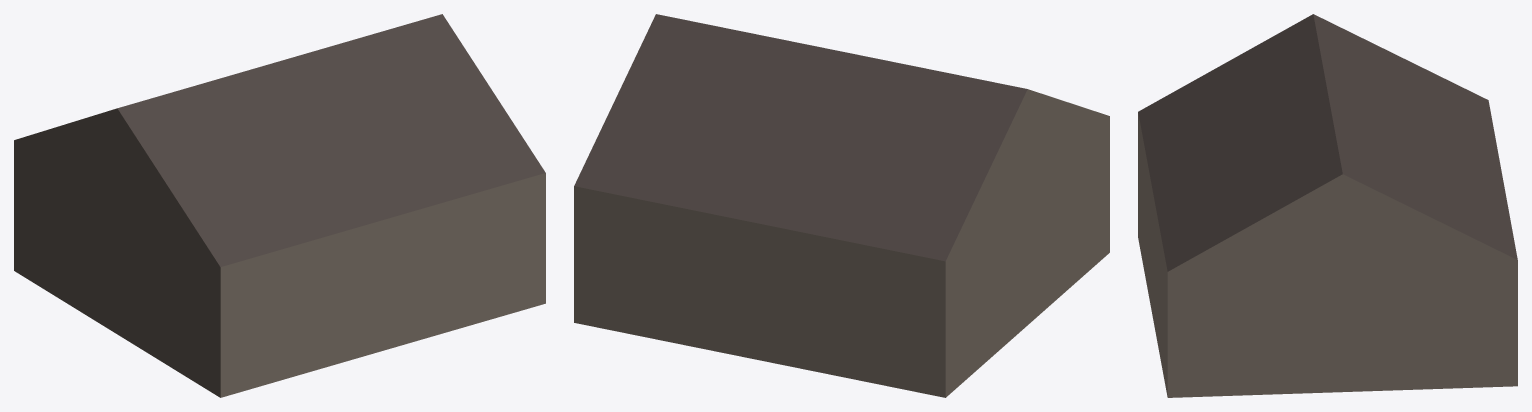
The picture shows the model from 3 angles, left to right: view 1: azimuth 30°, elevation 25°; view 2: azimuth 150°, elevation 25°; view 3: azimuth 270°, elevation 25°; orthographic projection. The views are drawn at different scales.
Parts seen in each view (by area): view 1: HP-w859424185; view 2: HP-w859424185; view 3: HP-w859424185.
Part boxes in pixels (left/top/right/bottom): HP-w859424185: left=14, top=14, right=545, bottom=397; HP-w859424185: left=574, top=14, right=1109, bottom=397; HP-w859424185: left=1138, top=14, right=1517, bottom=397.
Bounding box in the file's own units: 17.54 × 10.38 × 16.39.
